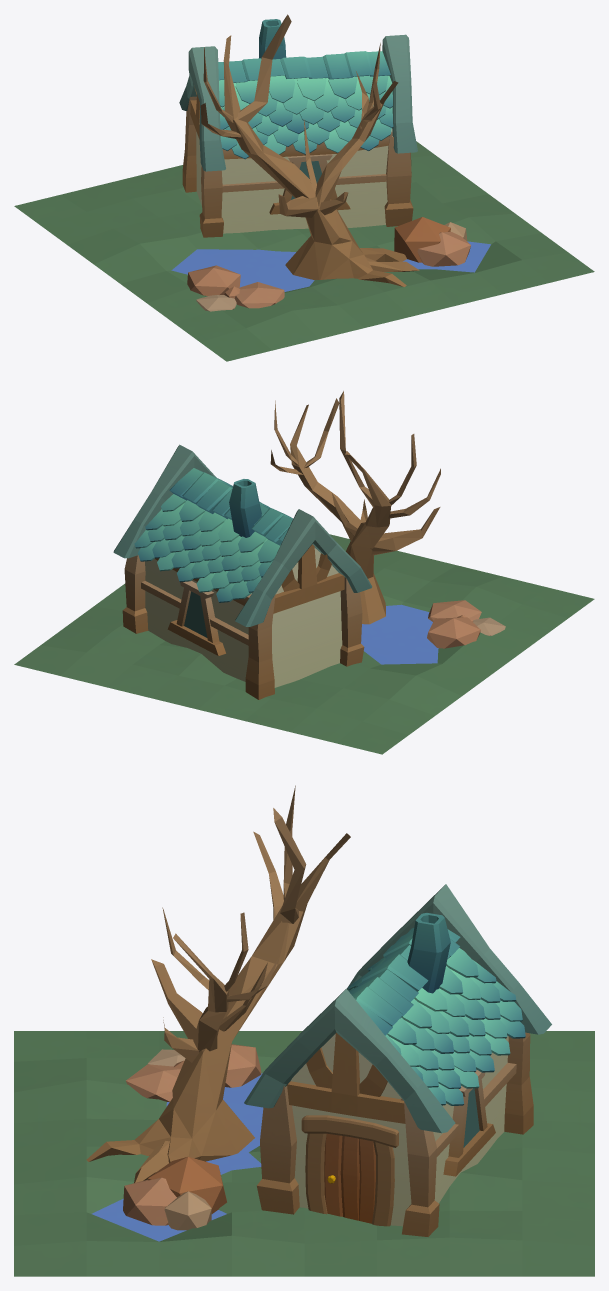
File: House_Rainy_Otono.glb
The picture shows the model from 3 angles, top to bottom: view 1: azimuth 30°, elevation 25°; view 2: azimuth 150°, elevation 25°; view 3: azimuth 270°, elevation 25°; orthographic projection. The views are drawn at different scales.
Parts seen in each view (by area): view 1: Plane.002, Arbol1.069, Circle.007, Cube.349, Plane, Cube.345, Cube.347, Icosphere.022, Icosphere.023, Cube.348, Cube.335, Cube.333 (+4 smaller); view 2: Plane.002, Circle.008, Cube.349, Arbol1.069, Cube.347, Plane, Cube.334, Cube.345, Icosphere.022, Cube.348, Cube.346, Cube.342 (+2 smaller); view 3: Plane.002, Arbol1.069, Circle.008, Cube.348, Cube.349, Cube.344, Cube.339, Cube.347, Icosphere.023, Cube.345, Cube.335, Cube.334 (+9 smaller).
Boxes of the visible parts, x1,y1,x2,y2 form: Plane.002: (14,141,594,361); Arbol1.069: (200,14,419,286); Circle.007: (219,75,393,159); Cube.349: (196,129,392,233); Plane: (171,241,490,291); Cube.345: (218,51,390,82); Cube.347: (179,46,225,171); Icosphere.022: (187,265,284,311); Icosphere.023: (394,217,470,266); Cube.348: (382,34,417,153); Cube.335: (384,136,413,226); Cube.333: (222,154,386,214); Plane.002: (14,534,594,754); Circle.008: (134,494,364,666); Cube.349: (145,548,342,687); Arbol1.069: (270,391,440,624); Cube.347: (235,509,372,626); Plane: (361,604,438,664); Cube.334: (141,581,248,655); Cube.345: (169,468,293,545); Icosphere.022: (427,600,505,648); Cube.348: (113,444,216,558); Cube.346: (273,544,344,613); Cube.342: (245,594,275,699); Plane.002: (14,1031,594,1276); Arbol1.069: (86,785,350,1182); Circle.008: (385,948,525,1105); Cube.348: (244,988,455,1133); Cube.349: (291,1034,508,1226); Cube.344: (287,1033,405,1123); Cube.339: (301,1115,398,1226); Cube.347: (347,884,551,1034); Icosphere.023: (123,1156,226,1225); Cube.345: (349,928,460,1035); Cube.335: (257,1085,299,1214); Cube.334: (435,1063,516,1176).
Bounding box in the file's own units: 10 × 6.67 × 10.
3 materials, 3 textured.
